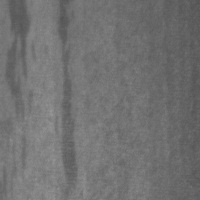inclusion: (53, 1, 81, 195), (5, 1, 32, 121), (1, 116, 27, 199)
